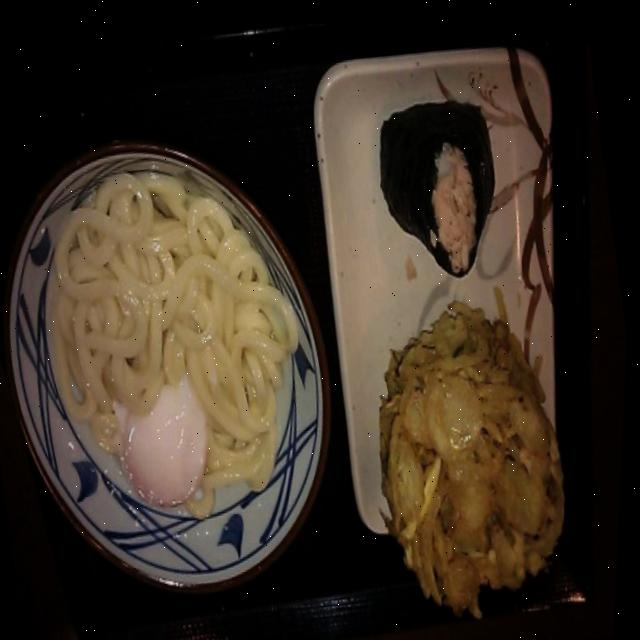米饭主食: (346, 75, 530, 292)
蔬菜料理: (339, 261, 607, 636)
面条主食: (0, 93, 388, 635)
